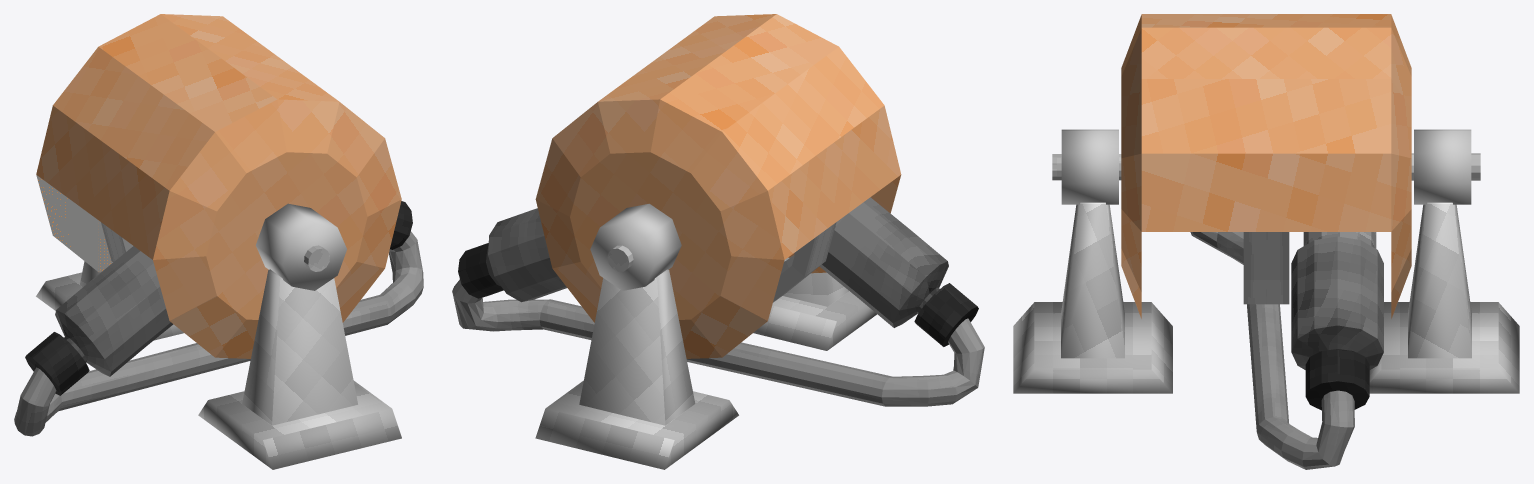
File: StirlingEngine.obj
3 renders of one model, left to right at view 1: azimuth 30°, elevation 25°; view 2: azimuth 150°, elevation 25°; view 3: azimuth 270°, elevation 25°, orthographic. The views are drawn at different scales.
Parts seen in each view (by area): view 1: static, rotating; view 2: static, rotating; view 3: static, rotating.
Part boxes in pixels (x1,y1,x2,y2): static: [14, 14, 423, 469]; rotating: [101, 222, 329, 271]; static: [452, 14, 984, 469]; rotating: [607, 215, 845, 302]; static: [1013, 14, 1519, 469]; rotating: [1052, 153, 1480, 304].
Size of the model in its own units: 1.34 by 0.8608 by 1.19.
Materials: 8 (7 with a texture image).
